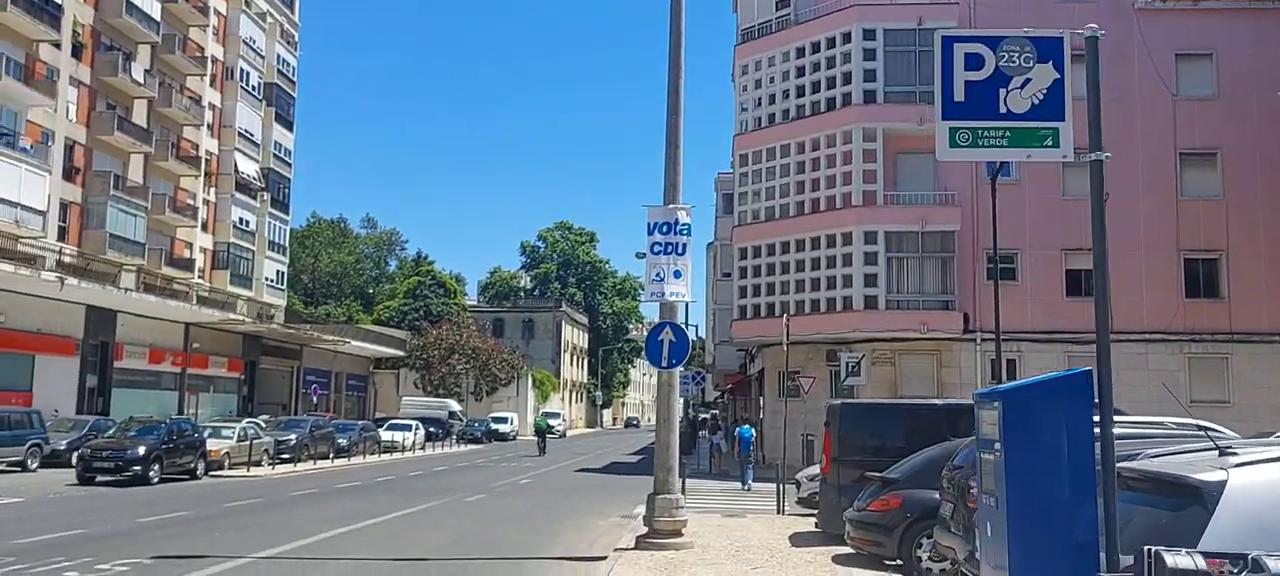sentido obrigatorio: (644, 319, 689, 368)
